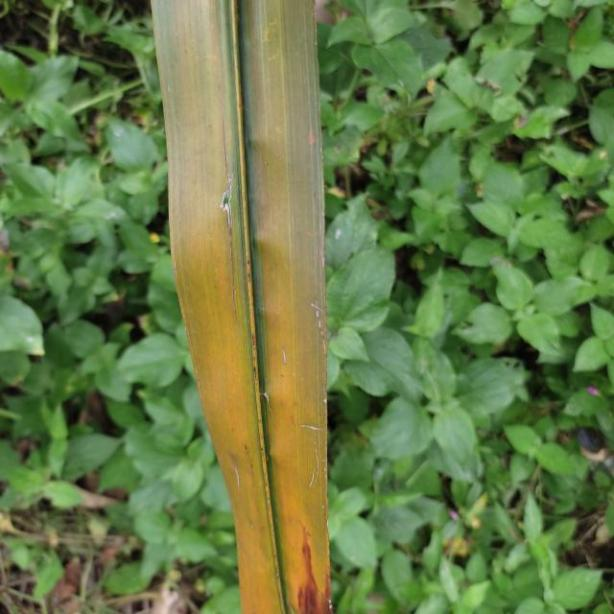Megnesium: (148, 0, 328, 614)
